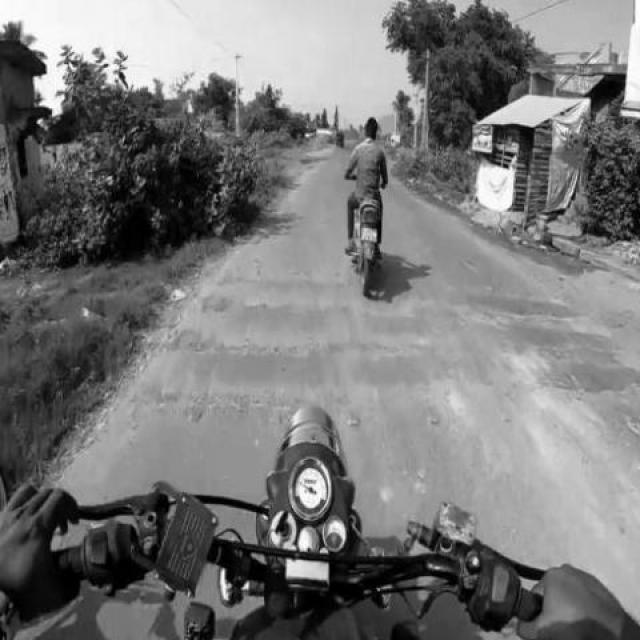Unmarked Bump: (140, 344, 639, 396), (174, 304, 609, 346), (210, 276, 576, 306)
